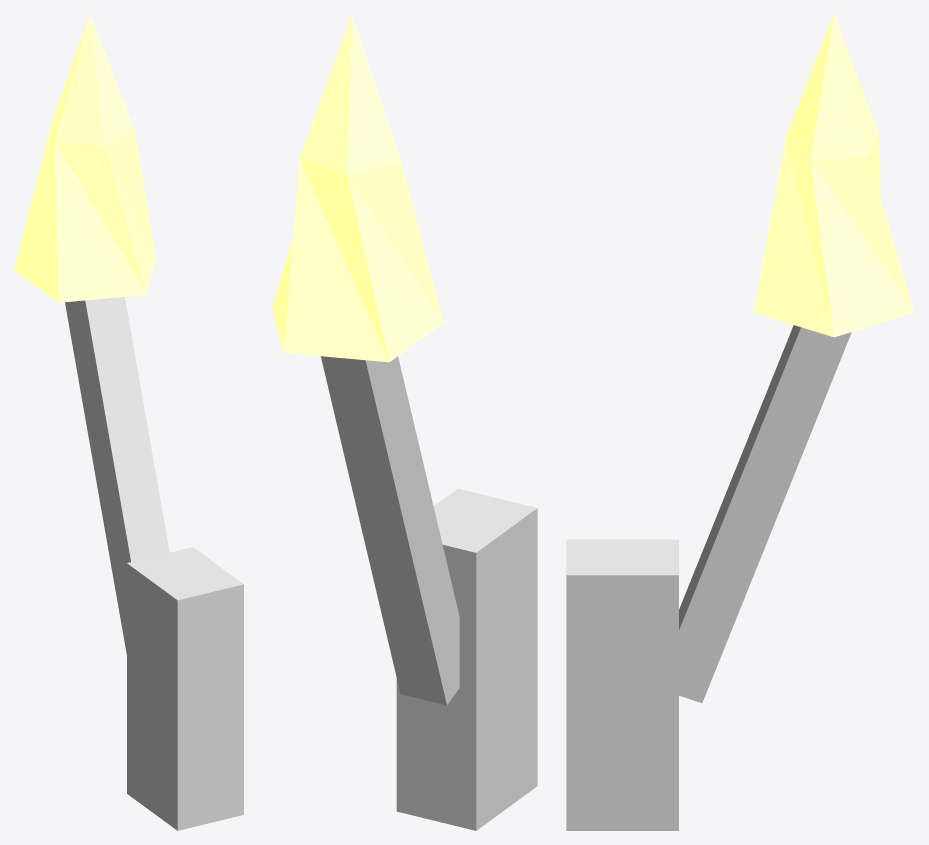
The model's file is torch_wall.glb.
3 renders of one model, left to right at view 1: azimuth 30°, elevation 25°; view 2: azimuth 150°, elevation 25°; view 3: azimuth 270°, elevation 25°, orthographic. The views are drawn at different scales.
Visible parts, largest first — view 1: Torch, Fire; view 2: Torch, Fire; view 3: Torch, Fire.
Part boxes in pixels (x1=…): Torch: x1=65, y1=297, x2=243, y2=830; Fire: x1=14, y1=14, x2=155, y2=302; Torch: x1=321, y1=356, x2=537, y2=830; Fire: x1=272, y1=14, x2=443, y2=362; Torch: x1=566, y1=325, x2=851, y2=830; Fire: x1=754, y1=14, x2=914, y2=337.
Bounding box in the file's own units: 0.2171 × 1.25 × 0.4941.
